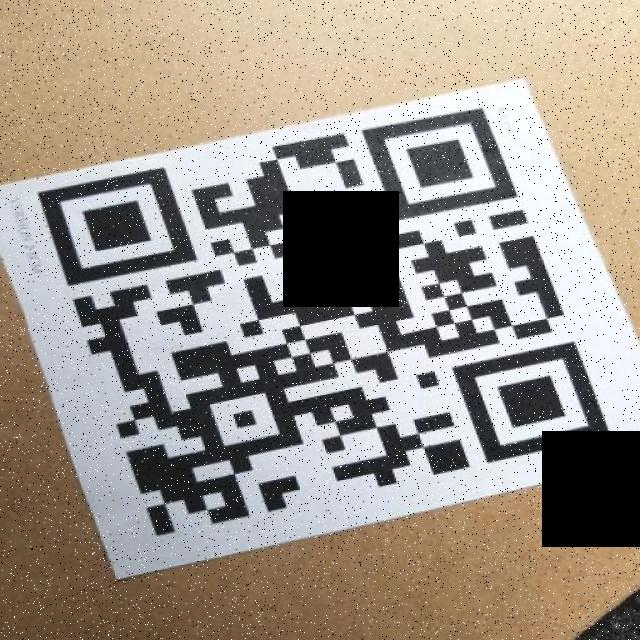QR_CODE: (23, 99, 628, 544)
